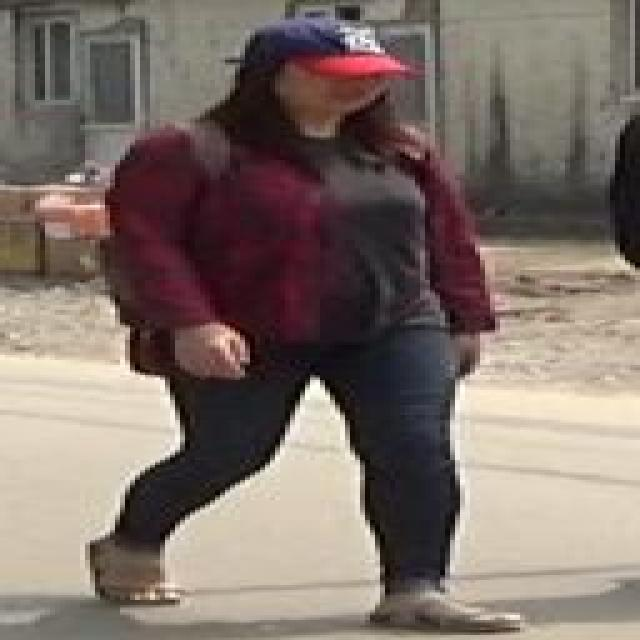adult: (77, 17, 515, 623)
